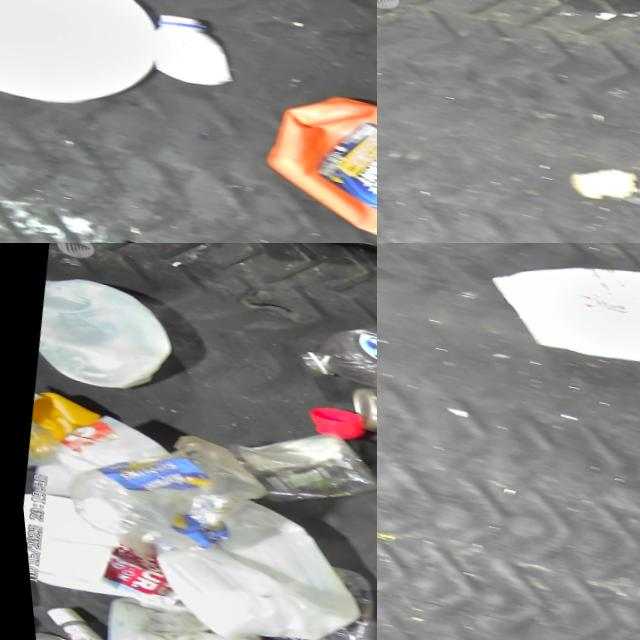can: (224, 412, 377, 517), (328, 367, 377, 457), (25, 622, 82, 640)
milk_jug: (122, 470, 368, 640), (469, 243, 640, 383), (24, 264, 185, 405)
non_white_jug: (230, 74, 377, 243)
plastic_bottle: (282, 289, 377, 416), (254, 550, 377, 640)
